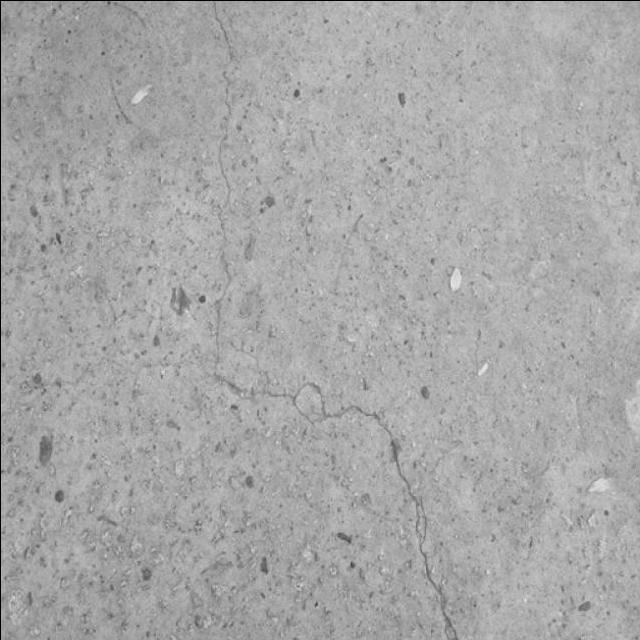SurfaceCrack: (38, 4, 504, 640)
